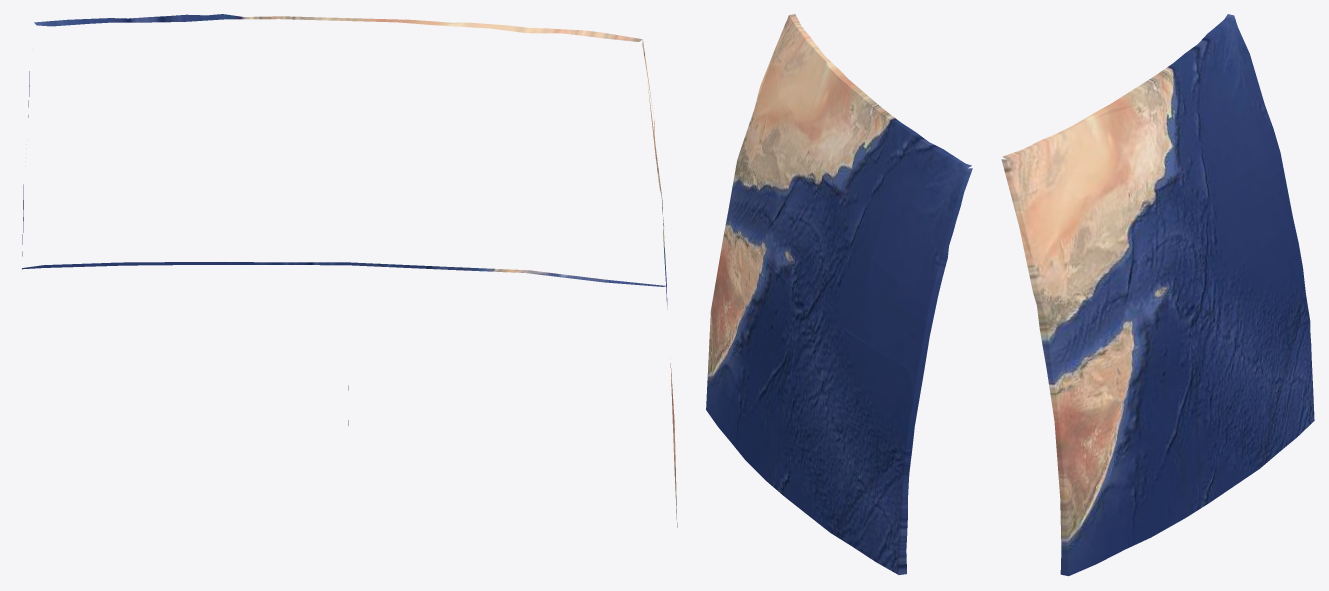
3 renders of one model, left to right at view 1: azimuth 30°, elevation 25°; view 2: azimuth 150°, elevation 25°; view 3: azimuth 270°, elevation 25°, orthographic. The views are drawn at different scales.
Size of the model in its own units: 2284442 by 2458696 by 1764341.
1 material, 1 textured.
